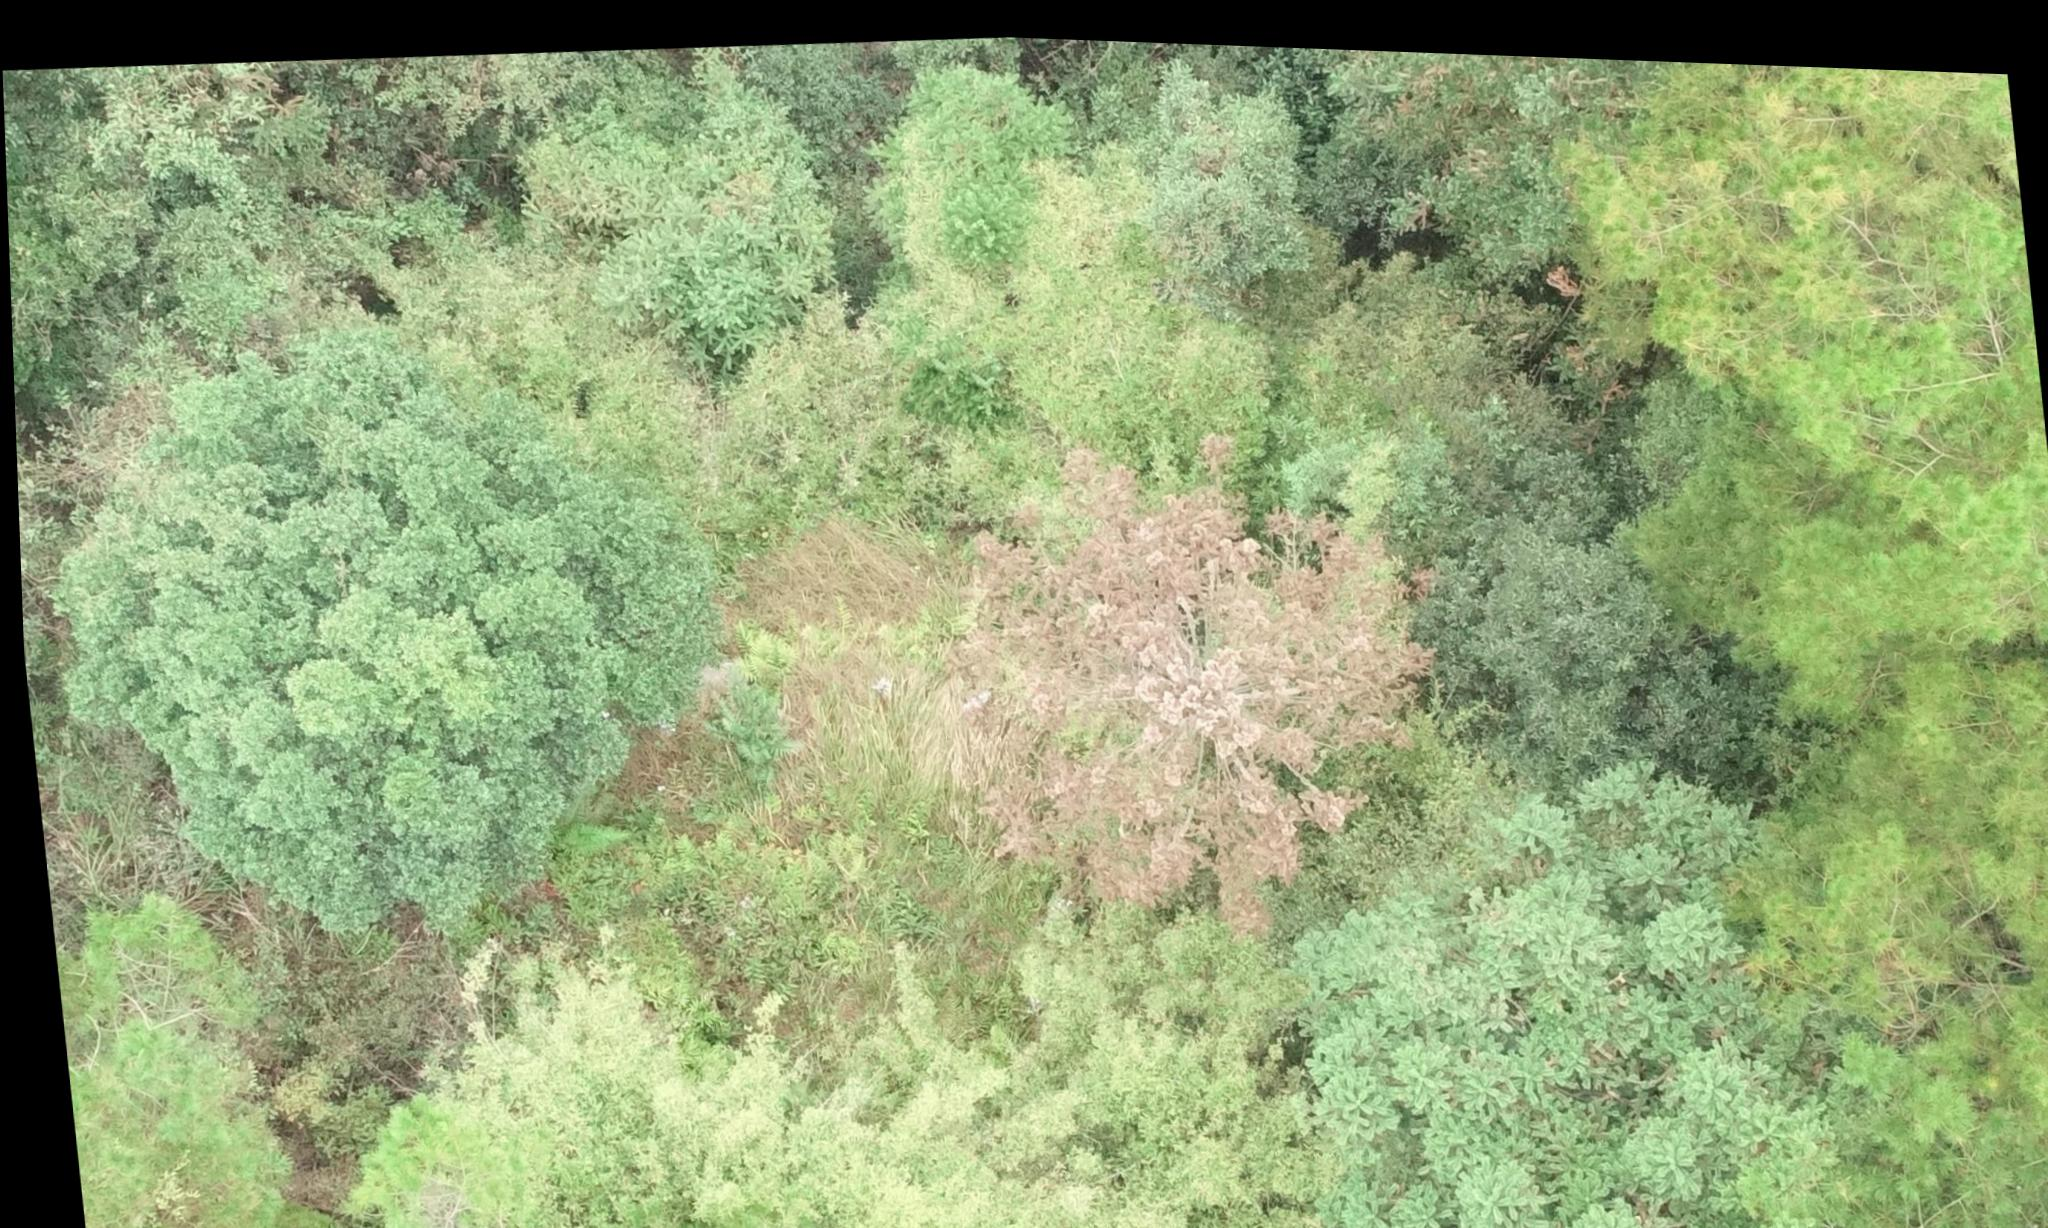heavy: (865, 411, 1478, 949)
